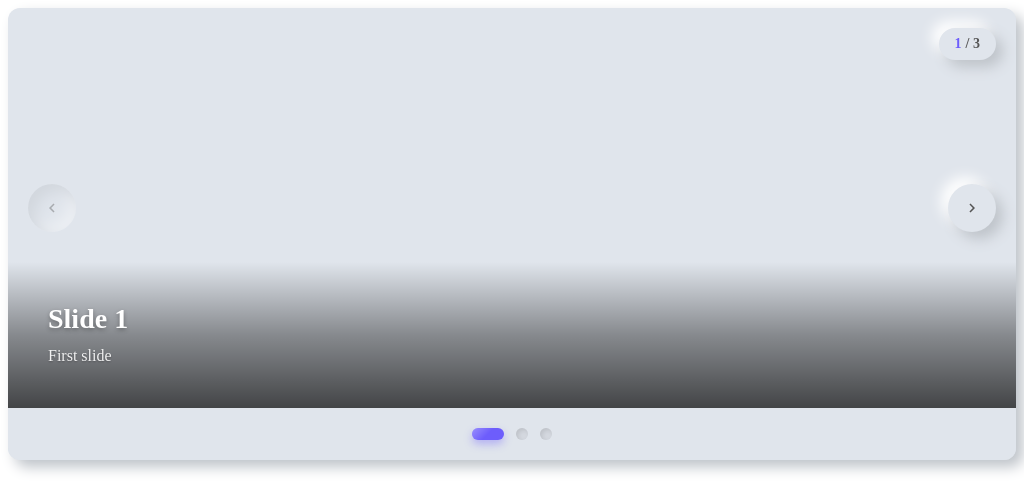
Scenario: Carousel › navigates to next slide on next button click
Click the button named "Next slide": (972,208) [948,184,996,232]
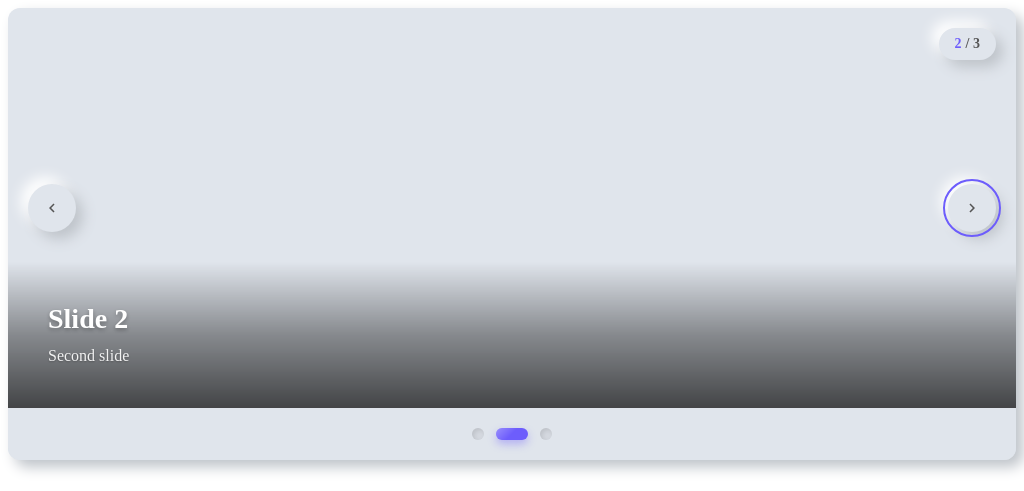
Result: the text "2" is shown at [955,36,962,52]
